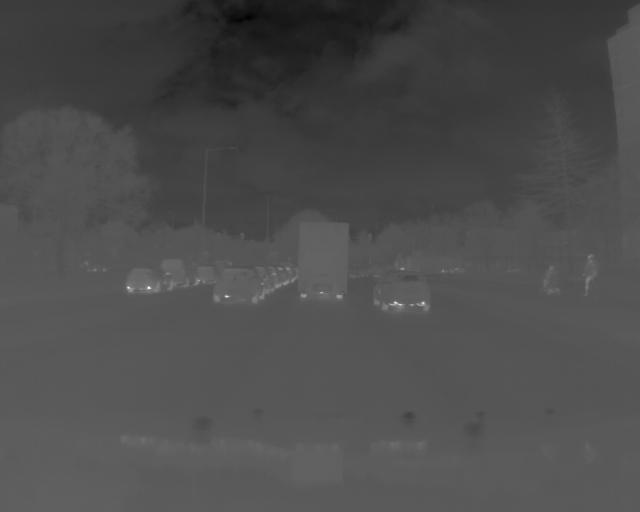car: (294, 214, 350, 307), (370, 264, 433, 318), (210, 266, 266, 307), (125, 265, 176, 295)
person: (580, 246, 603, 302), (543, 260, 561, 301)
